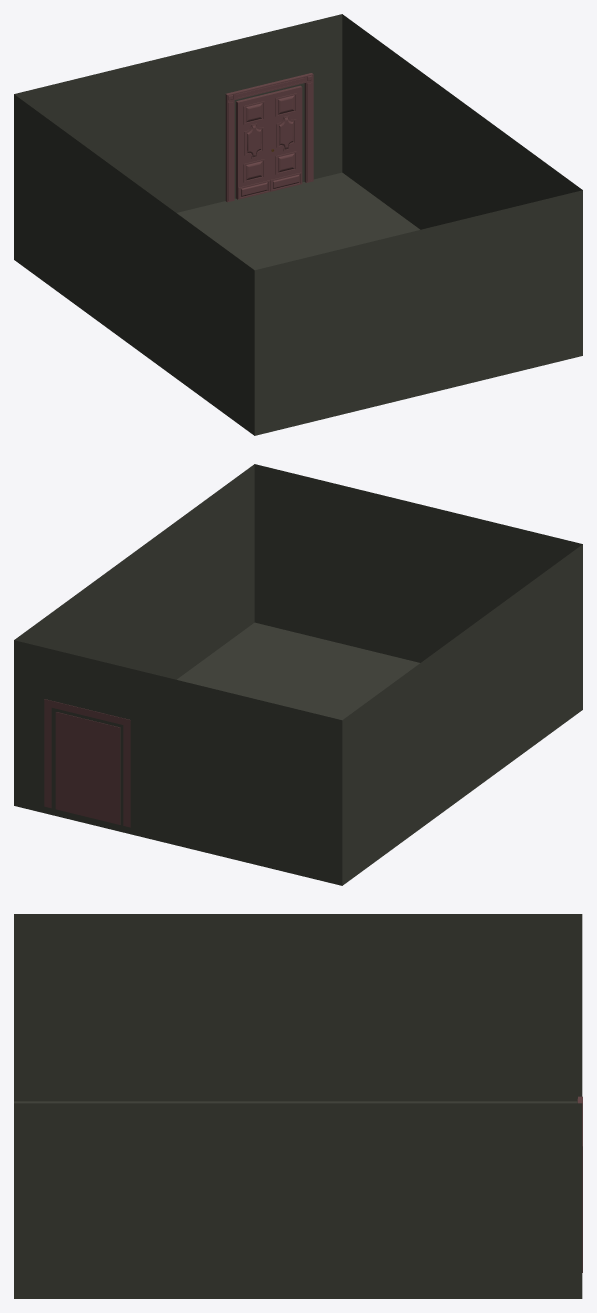
The model's file is RoomAndDoor_Sprint5.fbx.
3 renders of one model, top to bottom at view 1: azimuth 30°, elevation 25°; view 2: azimuth 150°, elevation 25°; view 3: azimuth 270°, elevation 25°, orthographic. The views are drawn at different scales.
Visible parts, largest first — view 1: Walls, Ground, Side_L_Mesh, Side_R_Mesh, Arch; view 2: Walls, Ground, Side_L_Mesh, Side_R_Mesh, Arch; view 3: Walls, Ground.
Part boxes in pixels (<box>): Walls: <box>14,14,582,435</box>; Ground: <box>14,172,582,435</box>; Side_L_Mesh: <box>236,93,269,199</box>; Side_R_Mesh: <box>268,85,302,191</box>; Arch: <box>225,73,313,202</box>; Walls: <box>14,464,582,885</box>; Ground: <box>14,622,581,885</box>; Side_L_Mesh: <box>88,719,120,824</box>; Side_R_Mesh: <box>55,712,87,816</box>; Arch: <box>44,699,130,827</box>; Walls: <box>14,914,582,1298</box>; Ground: <box>14,1101,581,1298</box>.
Bounding box in the file's own units: 110 × 53.27 × 140.
